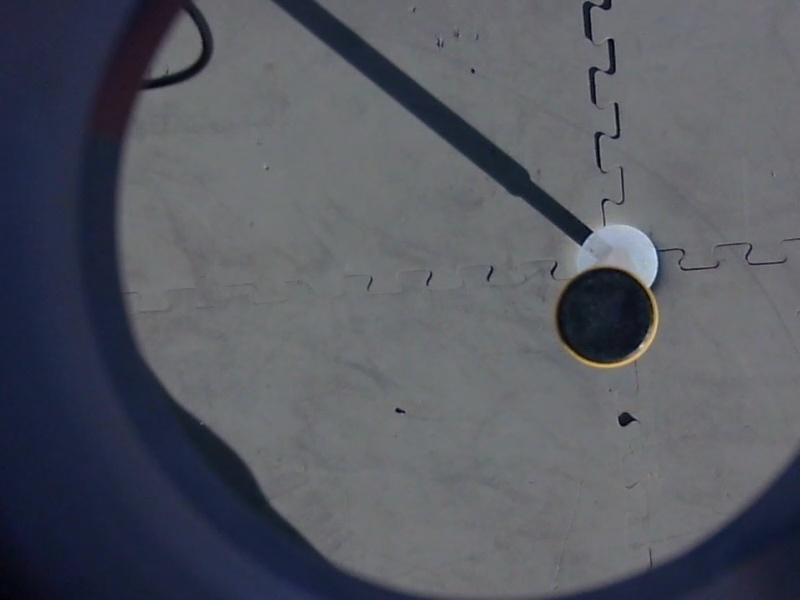tip: (548, 261, 666, 376)
